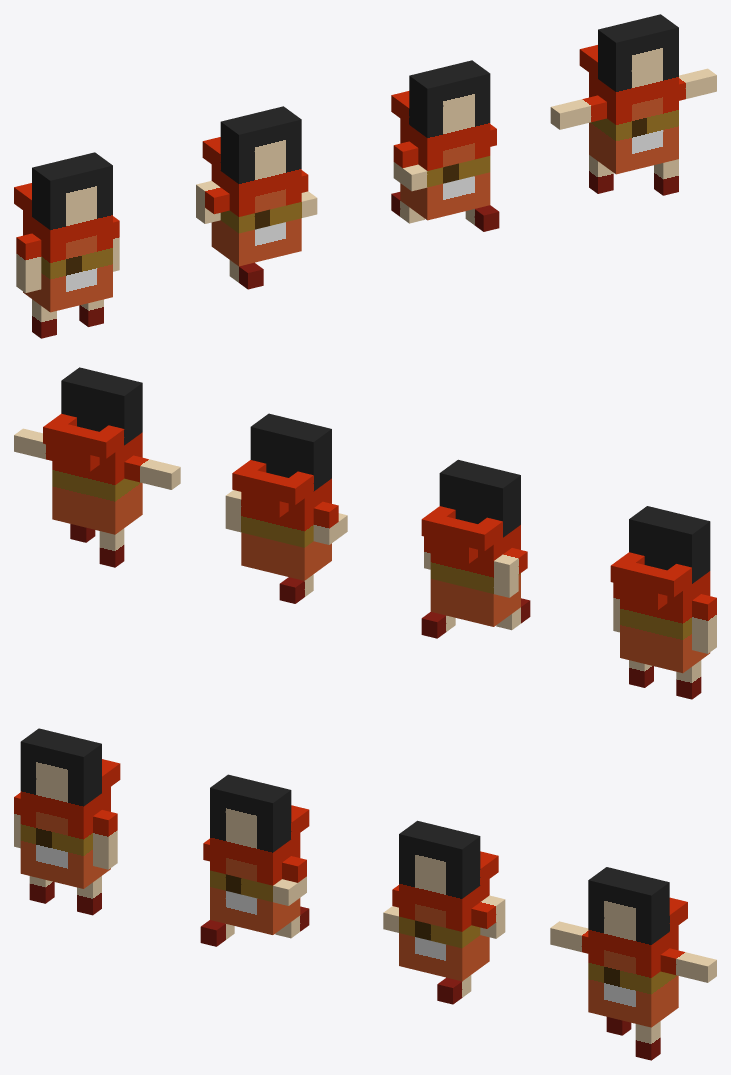
The model's file is character_doona.fbx.
3 views of the same model, one above another, from view 1: azimuth 30°, elevation 25°; view 2: azimuth 150°, elevation 25°; view 3: azimuth 330°, elevation 25° (orthographic).
Visible parts, largest first — view 1: move_2, idle_0, move_0, move_1; view 2: move_2, idle_0, move_1, move_0; view 3: move_2, idle_0, move_1, move_0.
Part boxes in pixels (x1,y1,x2,y2): move_2: [550, 14, 716, 195]; idle_0: [14, 152, 119, 338]; move_0: [196, 106, 317, 289]; move_1: [391, 60, 499, 231]; move_2: [14, 367, 180, 567]; idle_0: [610, 506, 716, 699]; move_1: [225, 413, 347, 603]; move_0: [421, 459, 530, 638]; move_2: [550, 867, 716, 1060]; idle_0: [14, 728, 120, 915]; move_1: [383, 820, 505, 1004]; move_0: [200, 774, 309, 946].
Bounding box in the file's own units: 44 × 10 × 5.
